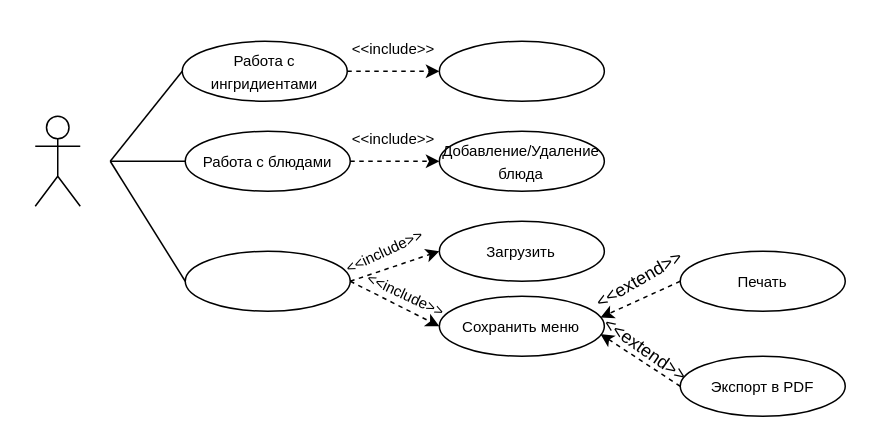
This 872x443 diagram has some shape labels left out. Here are the shapes that lost their labels. From the top down, the box of each, then its label:
(438, 40, 604, 101): Добавление/Удаление ингредиента
(34, 115, 80, 206): Диетолог
(184, 250, 350, 311): Планирование меню
